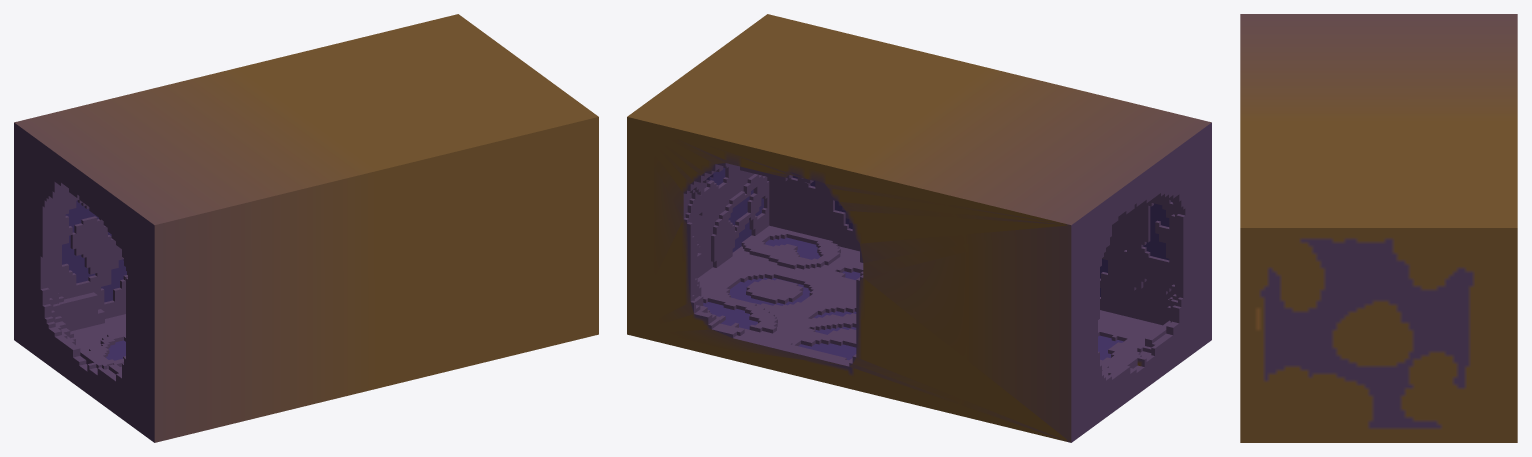
Rendered from Level3_template_corner_v1.dae.
3 renders of one model, left to right at view 1: azimuth 30°, elevation 25°; view 2: azimuth 150°, elevation 25°; view 3: azimuth 270°, elevation 25°, orthographic.
Visible parts, largest first — view 1: level3_template_corner_v1.level_3_template_corner_v1; view 2: level3_template_corner_v1.level_3_template_corner_v1; view 3: level3_template_corner_v1.level_3_template_corner_v1.
Boxes of the visible parts, x1=… form: level3_template_corner_v1.level_3_template_corner_v1: x1=14, y1=14, x2=598, y2=442; level3_template_corner_v1.level_3_template_corner_v1: x1=627, y1=14, x2=1211, y2=442; level3_template_corner_v1.level_3_template_corner_v1: x1=1240, y1=14, x2=1517, y2=442.
Size of the model in its own units: 12.6 by 5.9 by 6.9.
Materials: 1 (1 with a texture image).
